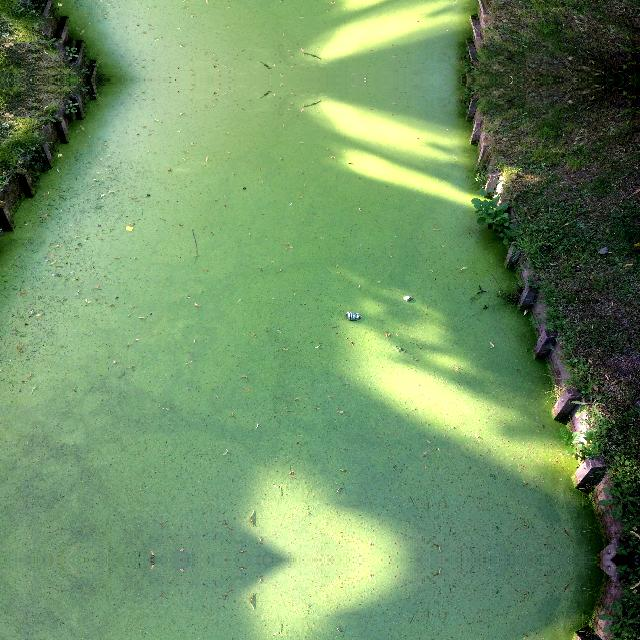Metal: (343, 310, 363, 320)
